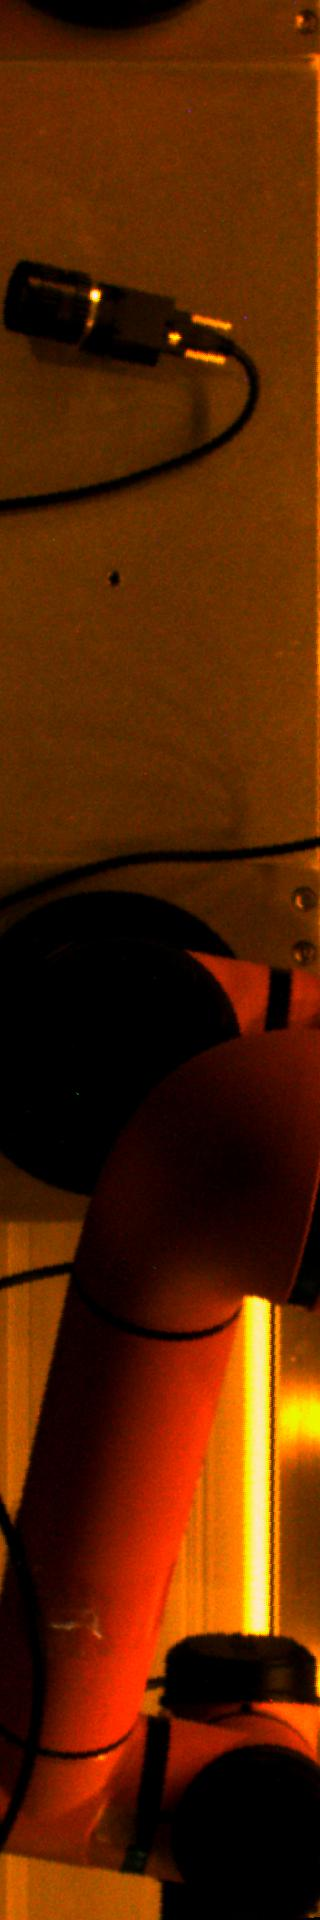keyPoint_2: (98, 564, 128, 595)
